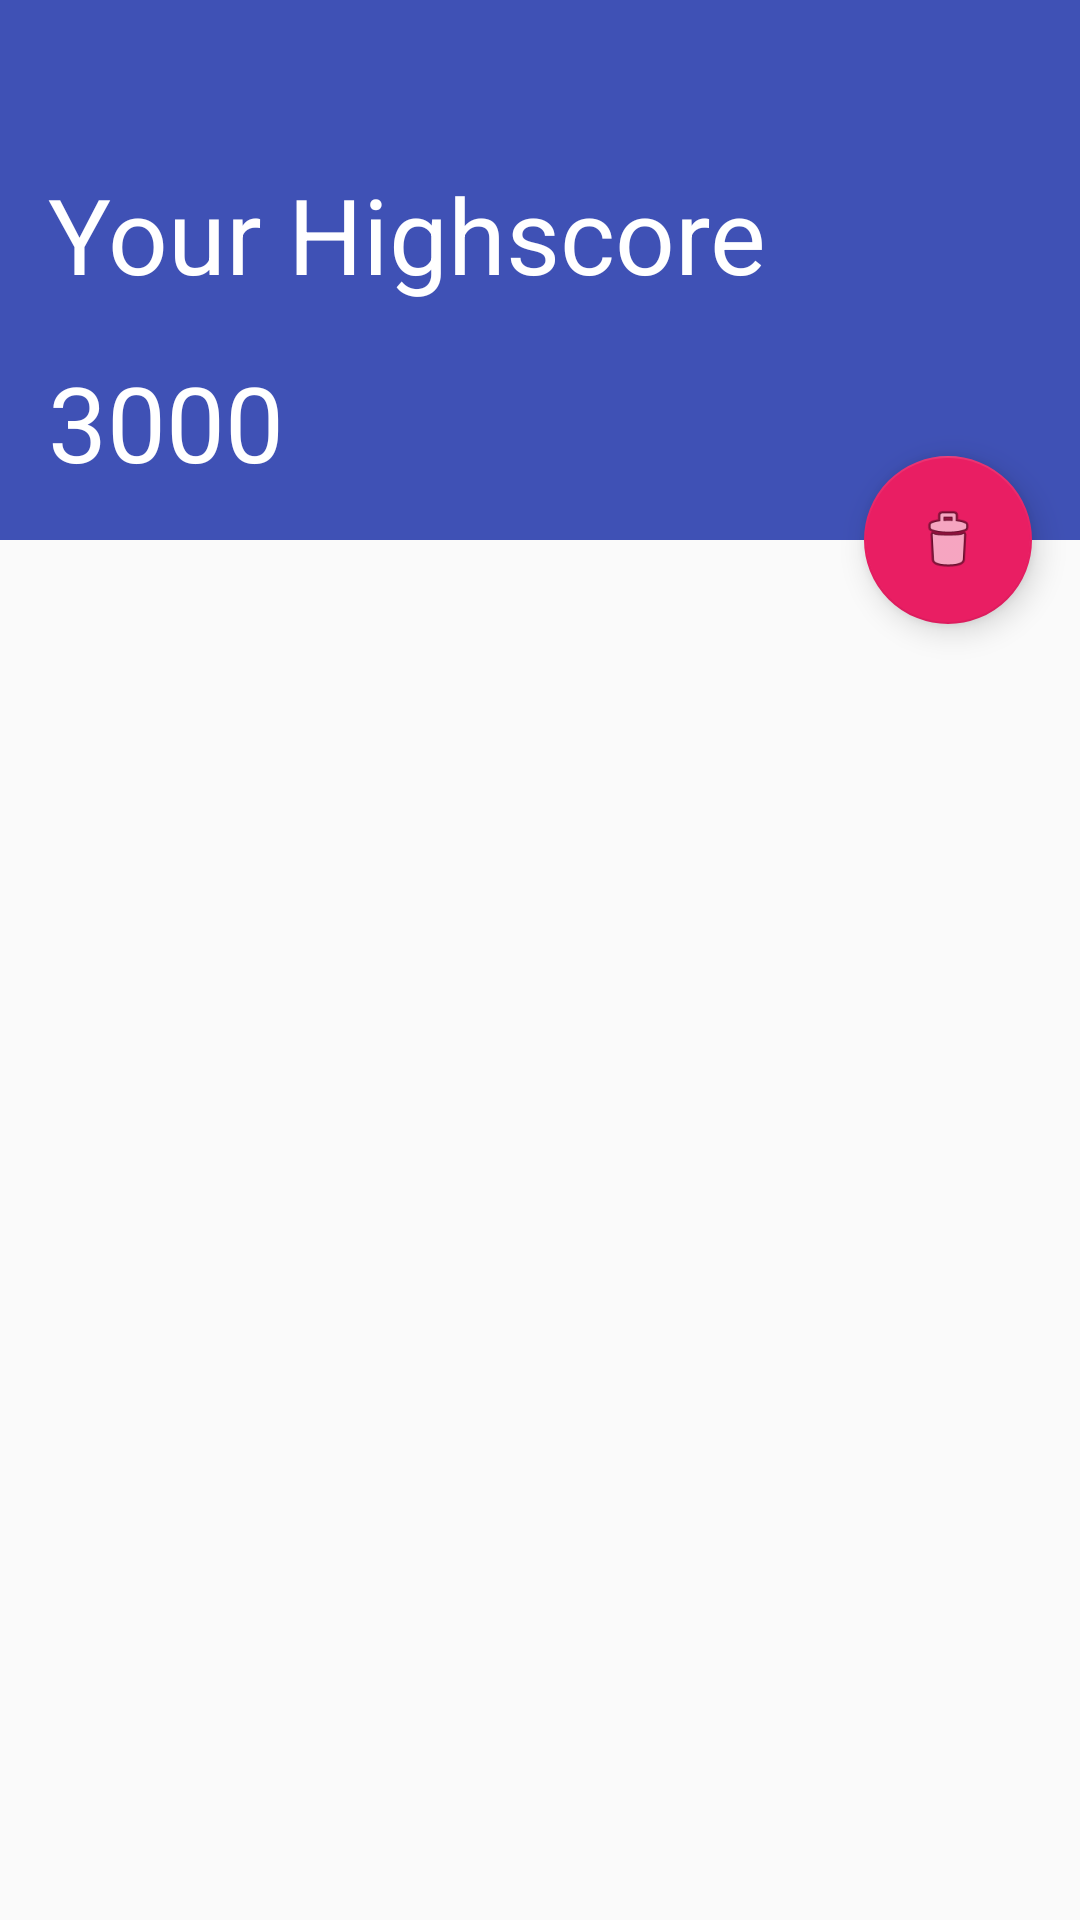

Where to tap for icons on this 1080px×1920px app screen, as point (x, y):
delete: point (948, 540)
